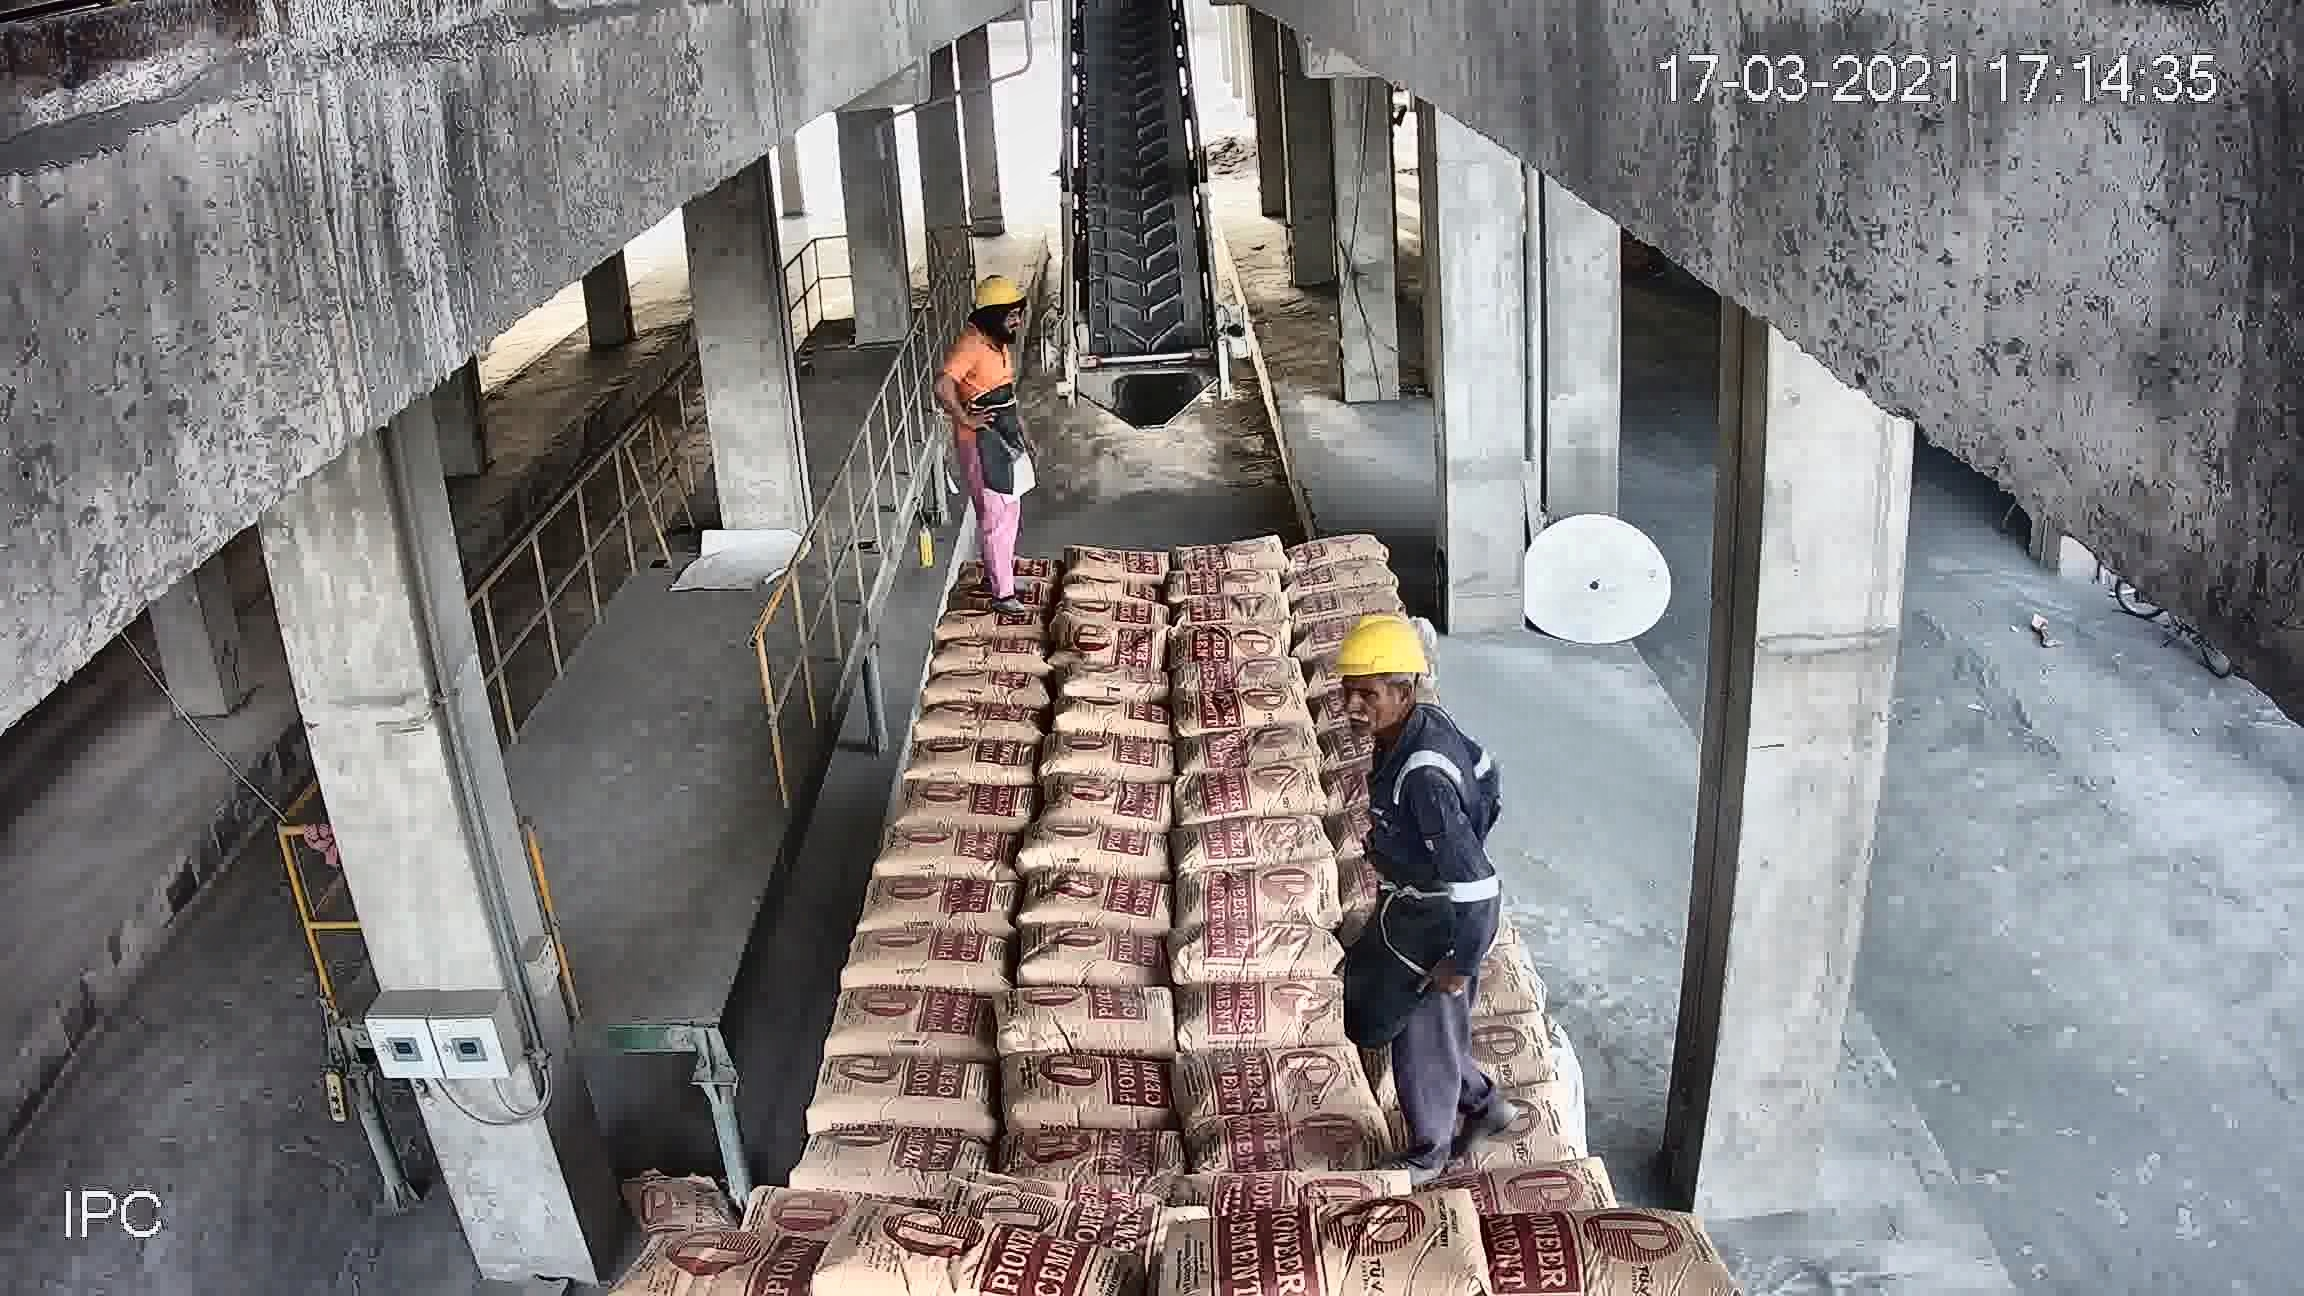bag_h: (1179, 1199, 1470, 1287), (807, 1218, 1122, 1294), (1448, 1214, 1707, 1294), (1173, 1029, 1381, 1120), (1190, 1101, 1388, 1185), (804, 1055, 1003, 1135), (630, 1226, 839, 1296), (1002, 984, 1188, 1060), (831, 980, 1008, 1059), (1008, 1059, 1180, 1136), (1173, 984, 1356, 1057), (786, 1130, 999, 1192), (1176, 859, 1343, 937), (999, 1120, 1188, 1188), (1165, 921, 1350, 991), (856, 873, 1022, 945), (839, 927, 1013, 994), (1022, 813, 1173, 886), (1182, 758, 1332, 826), (1017, 932, 1177, 991), (1043, 775, 1182, 837), (1184, 813, 1321, 873), (1029, 877, 1177, 930), (892, 782, 1040, 836), (872, 829, 1019, 881), (907, 736, 1041, 790), (1171, 687, 1313, 736), (1169, 650, 1309, 699), (1185, 723, 1324, 772), (911, 699, 1052, 747), (910, 665, 1046, 709), (1048, 741, 1176, 786), (1065, 611, 1165, 669), (1060, 658, 1171, 707), (1051, 699, 1161, 745), (1169, 620, 1288, 663), (930, 638, 1060, 674), (1180, 540, 1298, 579), (1173, 590, 1298, 627), (1287, 524, 1389, 567), (1171, 565, 1290, 601), (1063, 541, 1168, 582), (1057, 600, 1174, 635), (1054, 574, 1165, 608), (934, 601, 1052, 631), (1293, 562, 1397, 595)
belt: (1055, 36, 1225, 426)
